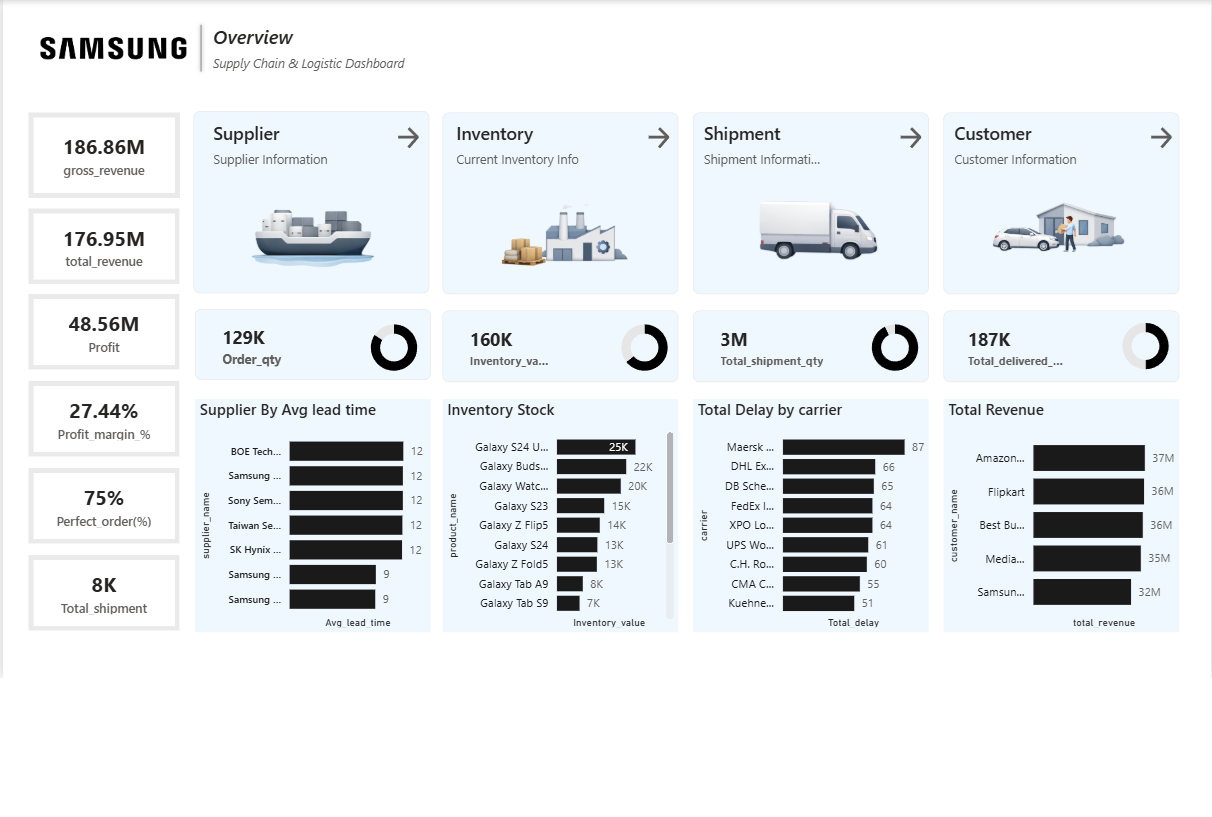

The dashboard page shown, as its layout file describes it:
{"tool":"powerbi","page":{"name":"Page 1","canvas":[1280,720],"ordinal":0},"visuals":[{"type":"shape","box":[202,118.3,250,193],"z":0},{"type":"shape","box":[465.7,120,250,192.9],"z":1000},{"type":"shape","box":[731.4,120,250,192.9],"z":2000},{"type":"shape","box":[997.1,120,250,192.9],"z":3000},{"type":"image","box":[250,180,151.4,131.4],"z":4000},{"type":"image","box":[514.3,170,154.3,150],"z":5000},{"type":"image","box":[790,181.4,144.3,114.3],"z":6000},{"type":"image","box":[1042.9,155.7,158.6,165.7],"z":7000},{"type":"actionButton","box":[414.3,130,37.1,31.4],"z":8000},{"type":"actionButton","box":[678.6,130,37.1,31.4],"z":9000},{"type":"actionButton","box":[945.7,130,35.7,31.4],"z":10000},{"type":"actionButton","box":[1211.4,130,35.7,31.4],"z":11000},{"type":"textbox","title":"Supplier","box":[217.1,128.6,141.4,50],"z":12000},{"type":"textbox","title":"Inventory","box":[475.7,128.6,165.7,50],"z":13000},{"type":"textbox","title":"Shipment","box":[738.6,128.6,138.6,50],"z":14000},{"type":"textbox","title":"Customer ","box":[1004.3,128.6,144.3,50],"z":15000},{"type":"shape","title":"Overview","box":[221.9,25.4,217.5,51.2],"z":16000},{"type":"shape","box":[199.4,22.9,22.5,57.5],"z":17000},{"type":"image","box":[26.9,19.2,172.5,63.8],"z":18000},{"type":"cardVisual","fields":{"Data":["Table.total_revenue"]},"box":[27.1,221.4,160,80],"z":19000},{"type":"cardVisual","fields":{"Data":["Table.Profit"]},"box":[27.1,311.4,160,80],"z":20000},{"type":"cardVisual","fields":{"Data":["Table.Profit_margin_%"]},"box":[27.1,404.3,160,80],"z":21000},{"type":"cardVisual","fields":{"Data":["Table.Perfect_order(%)"]},"box":[27.1,495.7,160,80],"z":22000},{"type":"cardVisual","fields":{"Data":["Table.Total_shipment"]},"box":[27.1,588.6,160,80],"z":23000},{"type":"cardVisual","fields":{"Data":["Sum(fact_sales.gross_revenue)"]},"box":[27,119.3,160.7,90.7],"z":24000},{"type":"shape","box":[202.9,327.9,250,75],"z":25000},{"type":"cardVisual","fields":{"Data":["Table.Order_qty"]},"box":[202.9,327.1,122.9,78.6],"z":26000},{"type":"shape","box":[465.7,328.6,250,75.7],"z":27000},{"type":"shape","box":[731.4,328.6,250,75.7],"z":28000},{"type":"shape","box":[997.1,328.6,250,75.7],"z":29000},{"type":"cardVisual","fields":{"Data":["Table.Inventory_value"]},"box":[465.7,328.6,142.9,78.6],"z":30000},{"type":"cardVisual","fields":{"Data":["Table.Total_shipment_qty"]},"box":[731.4,328.6,168.6,78.6],"z":31000},{"type":"cardVisual","fields":{"Data":["Table.Total_delivered_qty"]},"box":[994.3,330,165.7,78.6],"z":32000},{"type":"clusteredBarChart","title":"Supplier By Avg lead time","fields":{"Y":["Table.Avg_lead_time"],"Category":["dim_supplier.supplier_name"]},"box":[202.9,422.9,250,247.1],"z":33000},{"type":"clusteredBarChart","title":"Inventory Stock ","fields":{"Y":["Table.Inventory_value"],"Category":["dim_product.product_name"]},"box":[465.7,422.9,250,247.1],"z":34000},{"type":"clusteredBarChart","title":"Total Delay by carrier","fields":{"Y":["Table.Total_delay"],"Category":["fact_shipment.carrier"]},"box":[731.4,422.9,250,247.1],"z":35000},{"type":"clusteredBarChart","title":"Total Revenue","fields":{"Category":["dim_customer.customer_name"],"Y":["Table.total_revenue"]},"box":[997.1,422.9,250,247.1],"z":36000},{"type":"donutChart","fields":{"Y":["Table.Inventory_value","Table.safety_stock"]},"box":[644.3,325.7,71.4,84.3],"z":37000},{"type":"donutChart","fields":{"Y":["Table.Total_shipment","Table.Total_delay"]},"box":[910,325.7,71.4,84.3],"z":38000},{"type":"donutChart","fields":{"Y":["Table.Total_delivered_qty","Table.Total_qty_delay"]},"box":[1175.7,324.3,71.4,84.3],"z":39000},{"type":"donutChart","fields":{"Y":["Table.Order_qty","Table.Defected"]},"box":[378.6,325.7,71.4,84.3],"z":40000}]}

Visuals, with their boxes on the page's 1280x720 design canvas (x1, y1, x2, y2). These are canvas units, not pixel positions in the 1212x817 screenshot, which may show the page scaled, cropped or inside an application window:
shape: 202 118 452 311
shape: 466 120 716 313
shape: 731 120 981 313
shape: 997 120 1247 313
image: 250 180 401 311
image: 514 170 669 320
image: 790 181 934 296
image: 1043 156 1202 321
actionButton: 414 130 451 161
actionButton: 679 130 716 161
actionButton: 946 130 981 161
actionButton: 1211 130 1247 161
"Supplier" textbox: 217 129 358 179
"Inventory" textbox: 476 129 641 179
"Shipment" textbox: 739 129 877 179
"Customer " textbox: 1004 129 1149 179
"Overview" shape: 222 25 439 77
shape: 199 23 222 80
image: 27 19 199 83
cardVisual - Table.total_revenue: 27 221 187 301
cardVisual - Table.Profit: 27 311 187 391
cardVisual - Table.Profit_margin_%: 27 404 187 484
cardVisual - Table.Perfect_order(%): 27 496 187 576
cardVisual - Table.Total_shipment: 27 589 187 669
cardVisual - Sum(fact_sales.gross_revenue): 27 119 188 210
shape: 203 328 453 403
cardVisual - Table.Order_qty: 203 327 326 406
shape: 466 329 716 404
shape: 731 329 981 404
shape: 997 329 1247 404
cardVisual - Table.Inventory_value: 466 329 609 407
cardVisual - Table.Total_shipment_qty: 731 329 900 407
cardVisual - Table.Total_delivered_qty: 994 330 1160 409
"Supplier By Avg lead time" clusteredBarChart: 203 423 453 670
"Inventory Stock " clusteredBarChart: 466 423 716 670
"Total Delay by carrier" clusteredBarChart: 731 423 981 670
"Total Revenue" clusteredBarChart: 997 423 1247 670
donutChart - Table.Inventory_value x Table.safety_stock: 644 326 716 410
donutChart - Table.Total_shipment x Table.Total_delay: 910 326 981 410
donutChart - Table.Total_delivered_qty x Table.Total_qty_delay: 1176 324 1247 409
donutChart - Table.Order_qty x Table.Defected: 379 326 450 410
